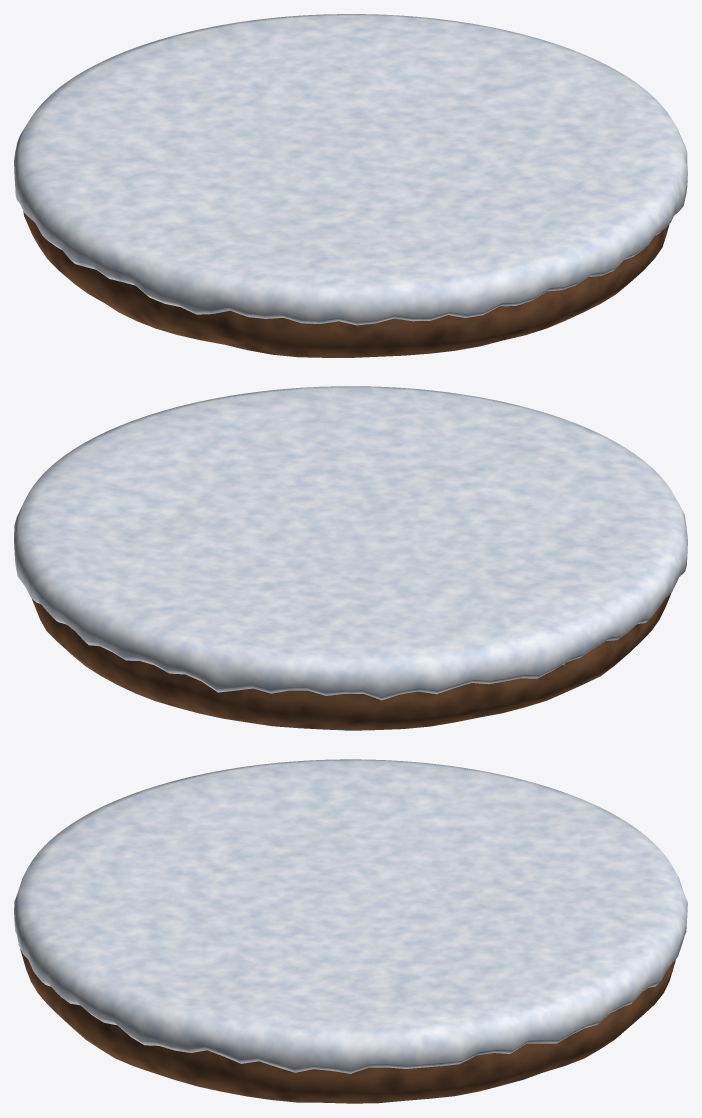
File: VikingCamp_Island.fbx
3 renders of one model, top to bottom at view 1: azimuth 30°, elevation 25°; view 2: azimuth 150°, elevation 25°; view 3: azimuth 270°, elevation 25°, orthographic.
Visible parts, largest first — view 1: Island_Snow, Island_Body; view 2: Island_Snow, Island_Body; view 3: Island_Snow, Island_Body.
Part boxes in pixels (x1=…): Island_Snow: x1=14, y1=14, x2=687, y2=325; Island_Body: x1=23, y1=211, x2=669, y2=357; Island_Snow: x1=14, y1=386, x2=687, y2=700; Island_Body: x1=31, y1=593, x2=671, y2=730; Island_Snow: x1=14, y1=759, x2=687, y2=1073; Island_Body: x1=20, y1=949, x2=675, y2=1103.
Bounding box in the file's own units: 20.65 × 3.69 × 20.64.
Materials: 1 (1 with a texture image).
